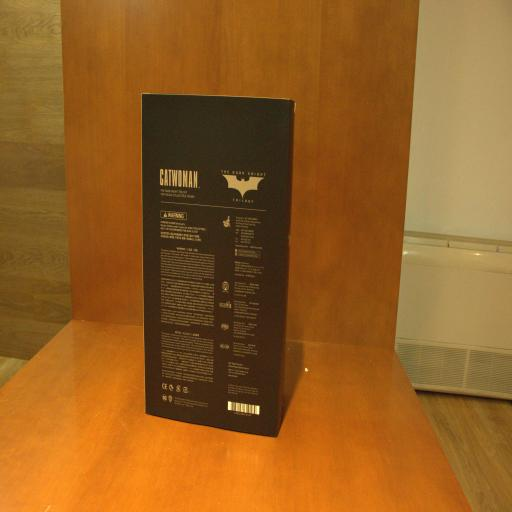catwoman: (142, 93, 294, 436)
